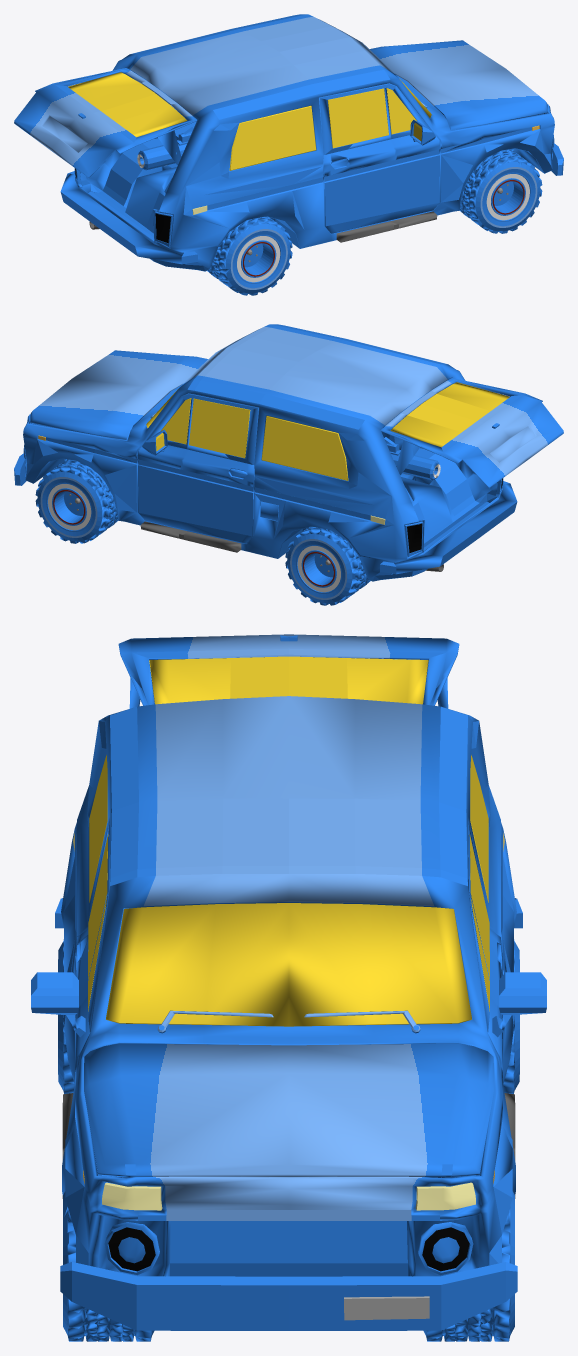
Rendered from ToyObject_101.fbx.
The picture shows the model from 3 angles, top to bottom: view 1: azimuth 30°, elevation 25°; view 2: azimuth 150°, elevation 25°; view 3: azimuth 270°, elevation 25°; orthographic projection. The views are drawn at different scales.
Visible parts, largest first — view 1: object-1.043; view 2: object-1.043; view 3: object-1.043.
Boxes of the visible parts, x1,y1,x2,y2 form: object-1.043: (14,14,563,295); object-1.043: (14,324,563,605); object-1.043: (31,634,546,1341).
Size of the model in its own units: 0.1797 by 0.0667 by 0.0852.
Materials: 3 (1 with a texture image).
